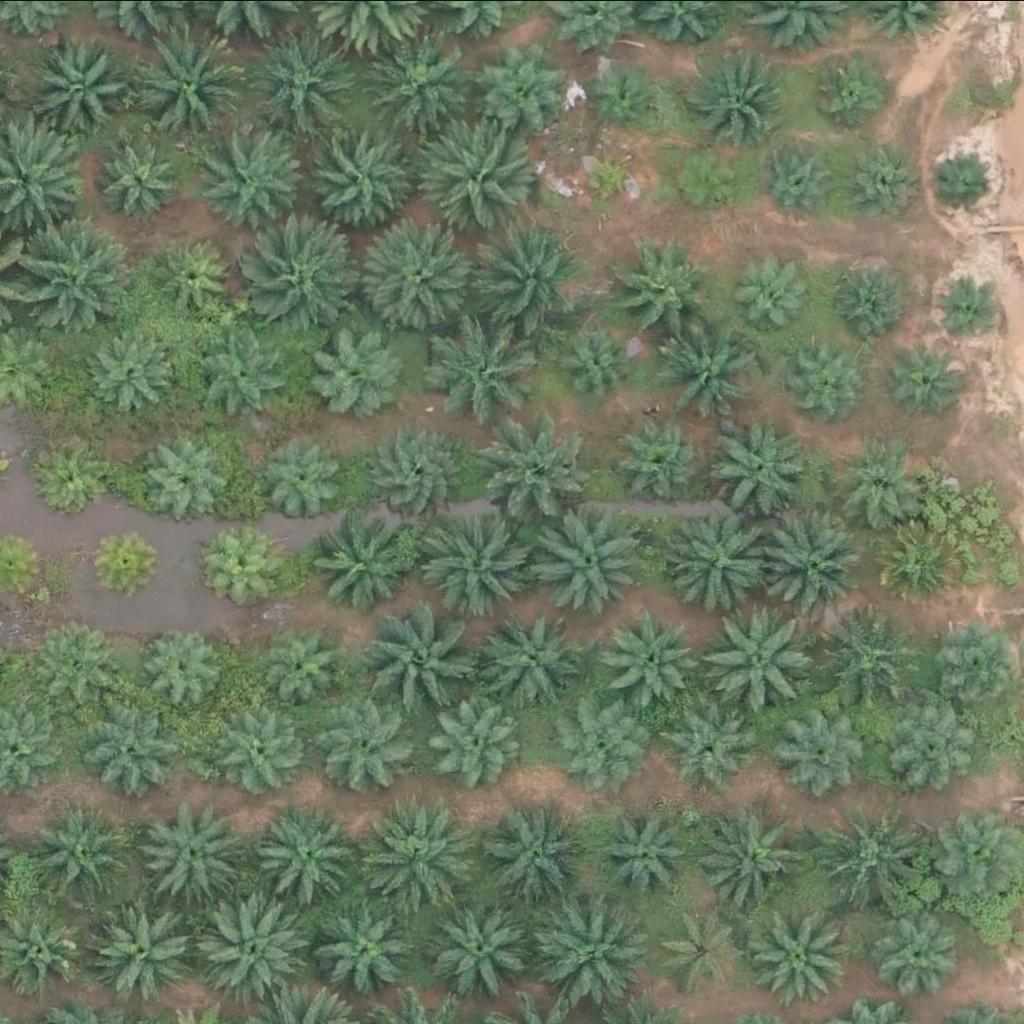Kelapa_Sawit: (529, 509, 643, 622), (134, 31, 247, 144), (246, 27, 359, 140), (301, 120, 414, 233), (362, 223, 475, 336), (756, 504, 869, 617), (660, 512, 773, 625), (259, 800, 372, 913), (368, 799, 481, 912), (425, 889, 538, 1002), (19, 216, 132, 329), (464, 224, 578, 336), (425, 507, 539, 619), (702, 605, 816, 717), (202, 128, 315, 240), (419, 123, 532, 235), (253, 226, 366, 338), (470, 413, 583, 525), (364, 609, 477, 721), (825, 805, 938, 917), (203, 889, 316, 1001), (541, 892, 654, 1004), (367, 36, 468, 136), (468, 34, 569, 134), (616, 242, 717, 342), (665, 328, 766, 428), (437, 328, 538, 428), (713, 418, 814, 518), (313, 515, 414, 615), (481, 612, 582, 712), (818, 610, 919, 710), (318, 691, 419, 791), (138, 802, 239, 902), (711, 808, 812, 908), (318, 895, 419, 995), (751, 904, 852, 1004), (31, 33, 132, 133), (86, 901, 187, 1001), (30, 802, 131, 902), (82, 695, 183, 795), (682, 43, 783, 143), (303, 321, 403, 421), (371, 423, 471, 523), (486, 802, 587, 901), (838, 141, 926, 229), (876, 522, 964, 610), (152, 233, 240, 321), (554, 319, 642, 407), (145, 438, 233, 526), (614, 612, 702, 700), (782, 710, 870, 798), (217, 712, 305, 800), (43, 616, 131, 704), (97, 133, 185, 221), (202, 334, 291, 421), (889, 700, 978, 787), (657, 902, 746, 989), (757, 132, 845, 219), (261, 437, 349, 524), (623, 415, 711, 502), (843, 438, 931, 525), (141, 621, 229, 708), (265, 624, 353, 711), (935, 622, 1023, 709), (660, 710, 748, 797), (548, 701, 636, 788), (433, 698, 521, 785), (599, 807, 687, 894), (879, 905, 967, 992), (85, 327, 173, 414), (31, 444, 107, 519), (740, 261, 816, 336), (828, 259, 904, 334), (588, 60, 664, 135), (675, 141, 751, 216), (211, 527, 287, 602), (84, 522, 160, 597), (810, 53, 885, 128), (795, 341, 870, 416), (895, 343, 970, 418), (936, 282, 999, 345), (932, 150, 995, 212), (576, 147, 639, 209)
